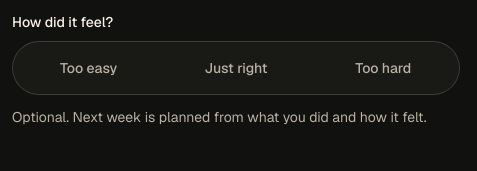
Test: section 6's app lines and step texts, word for word (M4.1b requirement 6, WU-62 (4)) › the feel tap after a done session: its question, its options, its lines and a failed save
Later steps or results of the test are not shown.
Check: the message reads "Optional. Next week is planned from what you did and how it felt.", box [12,108,427,126]
Click the radio button labelled "Too hard": [383, 68] box [355,58,411,76]
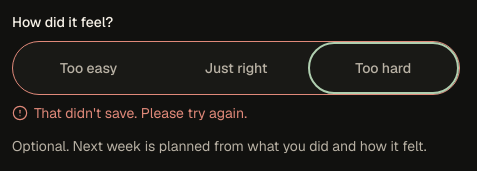
Check: the text "That didn't save. Please try again." is shown, box [34,103,247,124]
